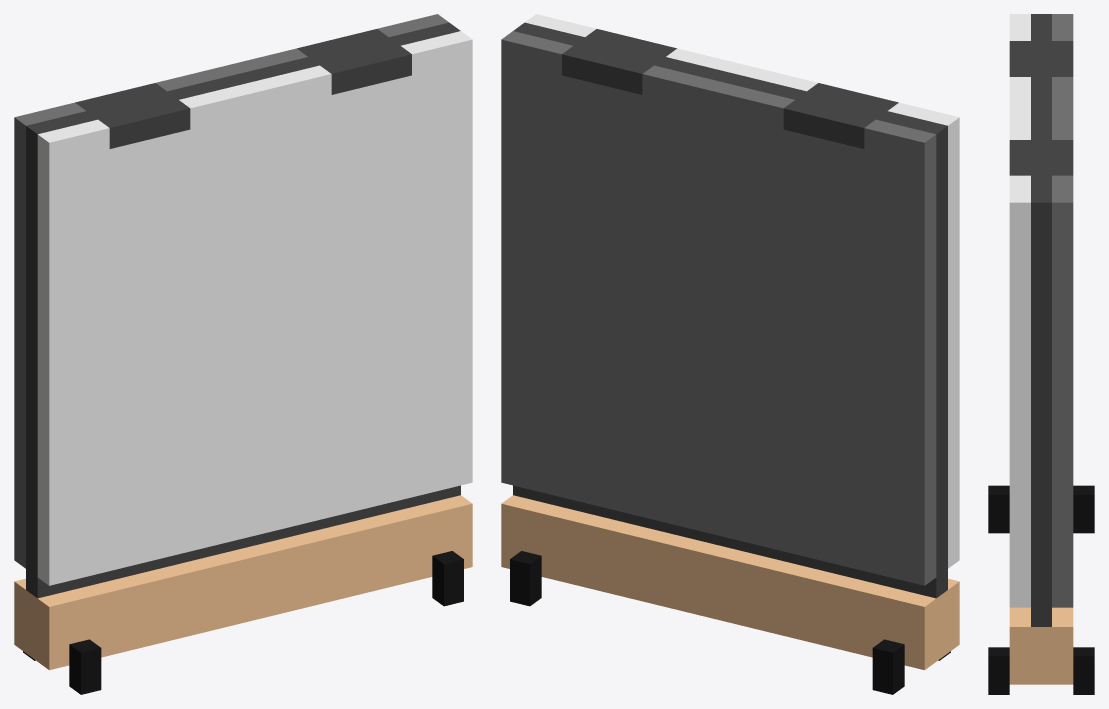
Rendered from 4er-tisch-verl-11-flywall.obj.
3 renders of one model, left to right at view 1: azimuth 30°, elevation 25°; view 2: azimuth 150°, elevation 25°; view 3: azimuth 270°, elevation 25°, orthographic. The views are drawn at different scales.
Parts seen in each view (by area): view 1: flywall; view 2: flywall; view 3: flywall.
Part boxes in pixels (x1,y1,x2,y2): flywall: (14, 14, 472, 694); flywall: (501, 14, 959, 694); flywall: (988, 14, 1094, 694).
Size of the model in its own units: 2.1 by 2.6 by 0.5.
1 material, 1 textured.
